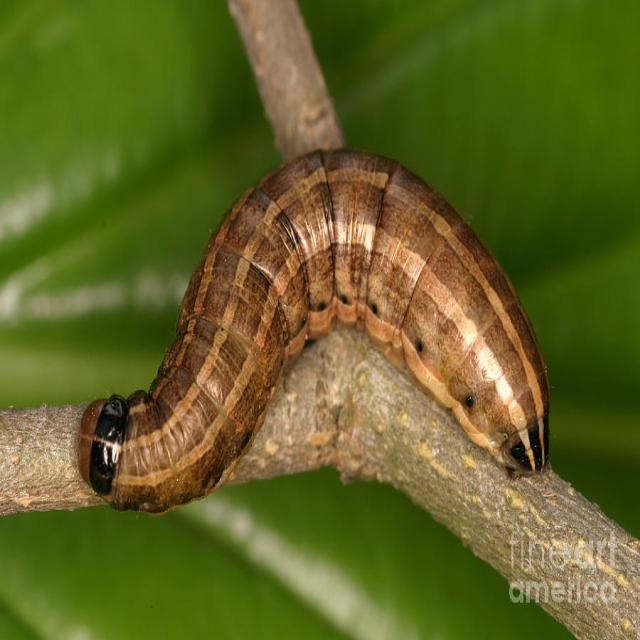worm: (76, 145, 552, 516)
